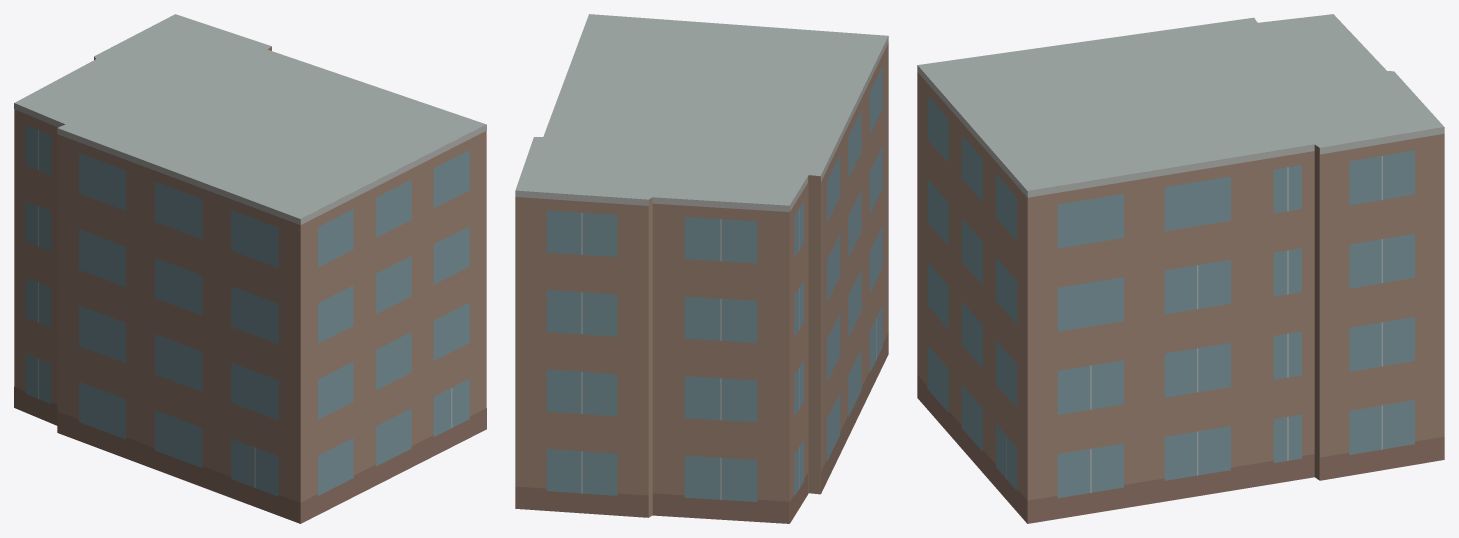
File: survey-upis-32595320.glb
3 renders of one model, left to right at view 1: azimuth 30°, elevation 25°; view 2: azimuth 150°, elevation 25°; view 3: azimuth 270°, elevation 25°, orthographic. The views are drawn at different scales.
Visible parts, largest first — view 1: survey-upis-32595320.tmp; view 2: survey-upis-32595320.tmp; view 3: survey-upis-32595320.tmp.
Boxes of the visible parts, x1,y1,x2,y2 form: survey-upis-32595320.tmp: (14, 14, 486, 523); survey-upis-32595320.tmp: (515, 14, 888, 523); survey-upis-32595320.tmp: (917, 14, 1444, 523).
Size of the model in its own units: 13.93 by 12.2 by 17.52.
